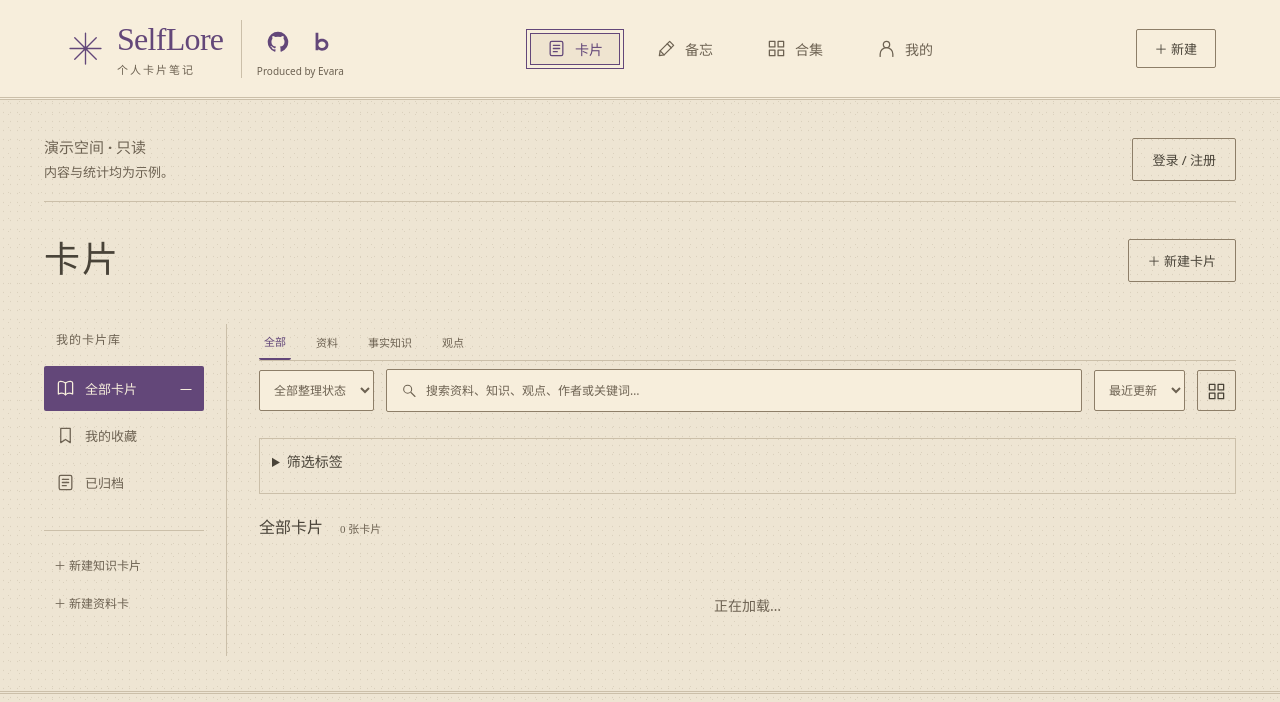
it: register then login updates the account entry
Step 1. Click the button "登录 / 注册" → (1184, 159), box [1132,138,1236,181]
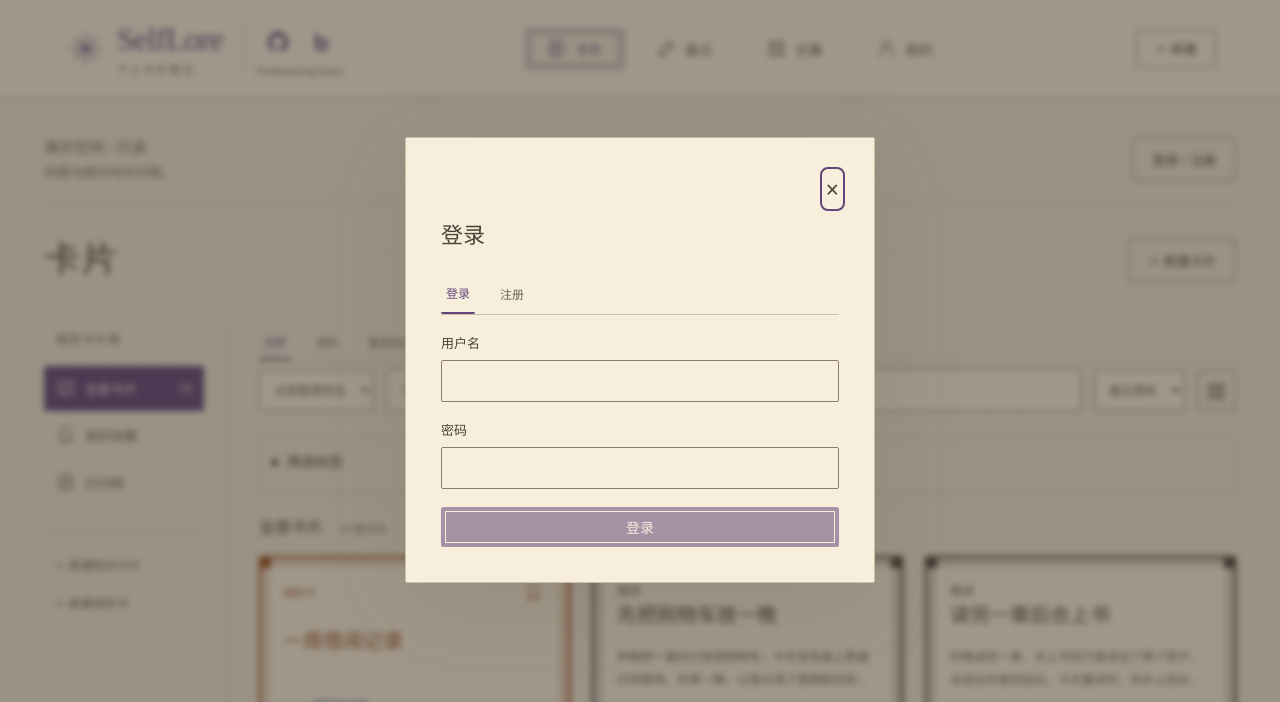
Step 2. Click the tab "注册" → (512, 294), box [495,274,529,314]
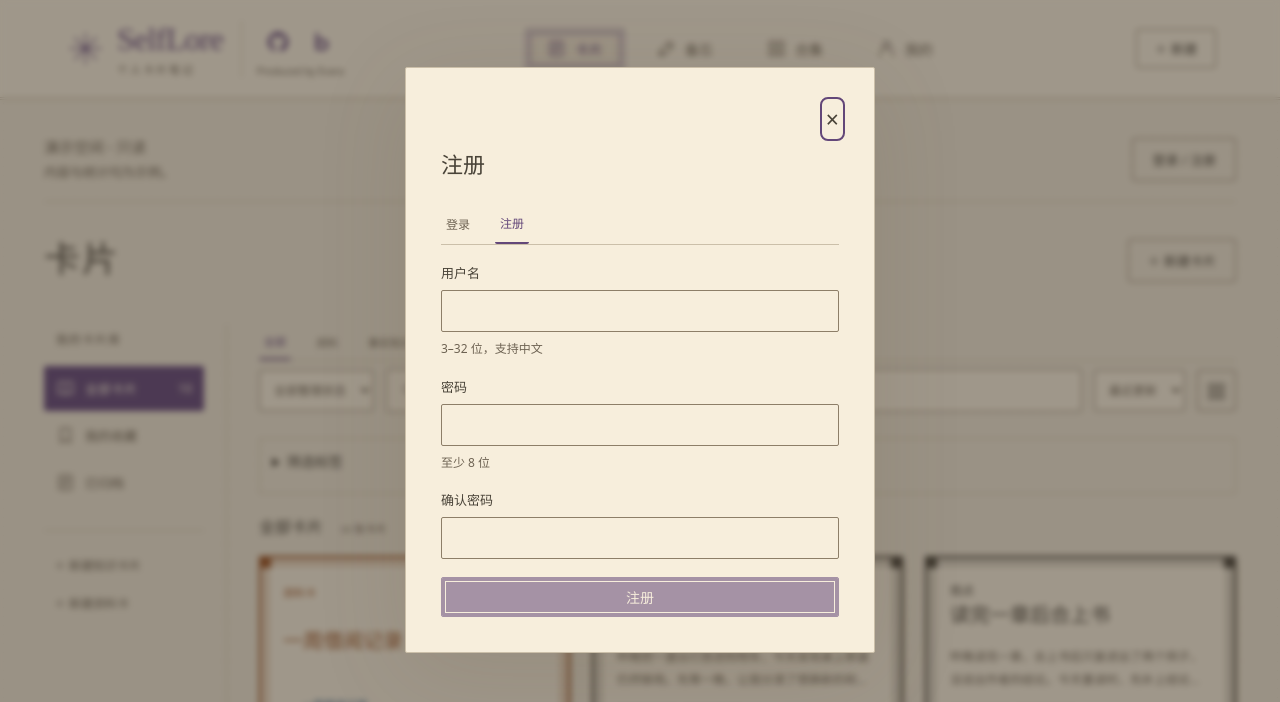
Step 3. Type "alice" into the field labelled "用户名" → (640, 311), box [441,290,839,332]
Step 4. Type "a-long-test-password-123" into the password field labelled "密码" → (640, 424), box [441,404,839,446]
Step 5. Type "a-long-test-password-123" into the password field labelled "确认密码" → (640, 538), box [441,517,839,559]
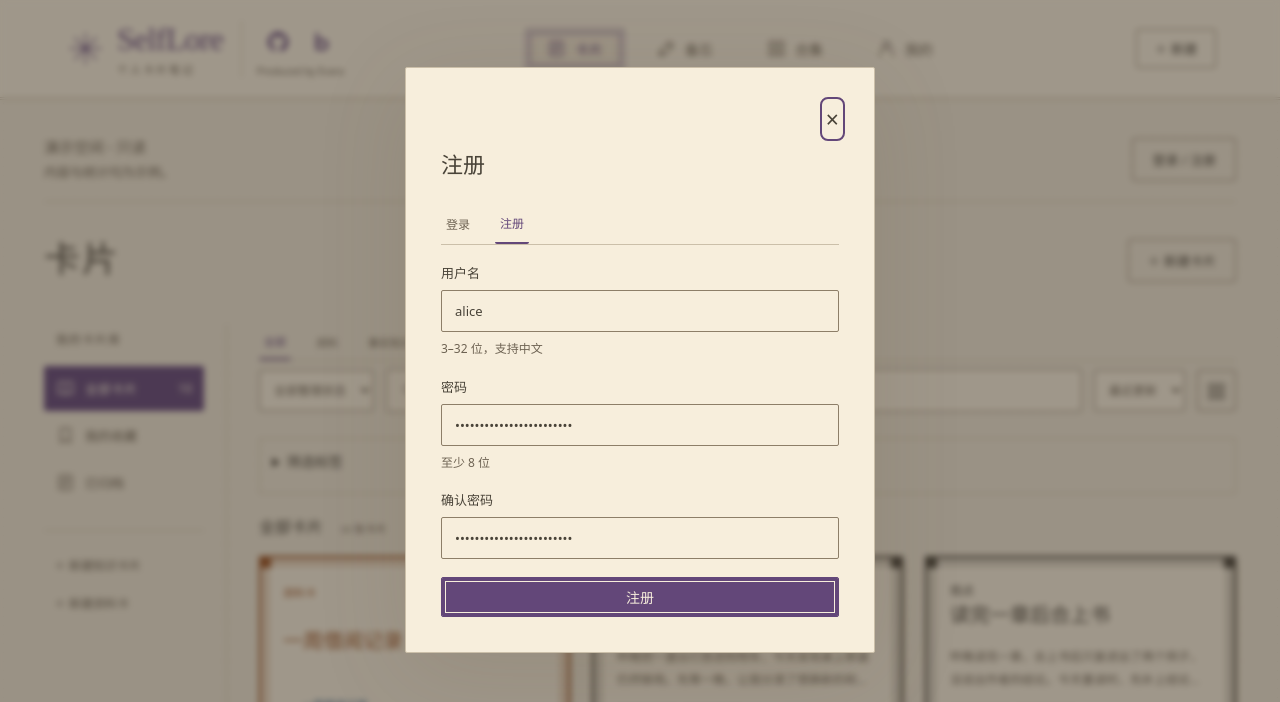
Step 6. Click the button "注册" → (640, 597), box [441,577,839,617]
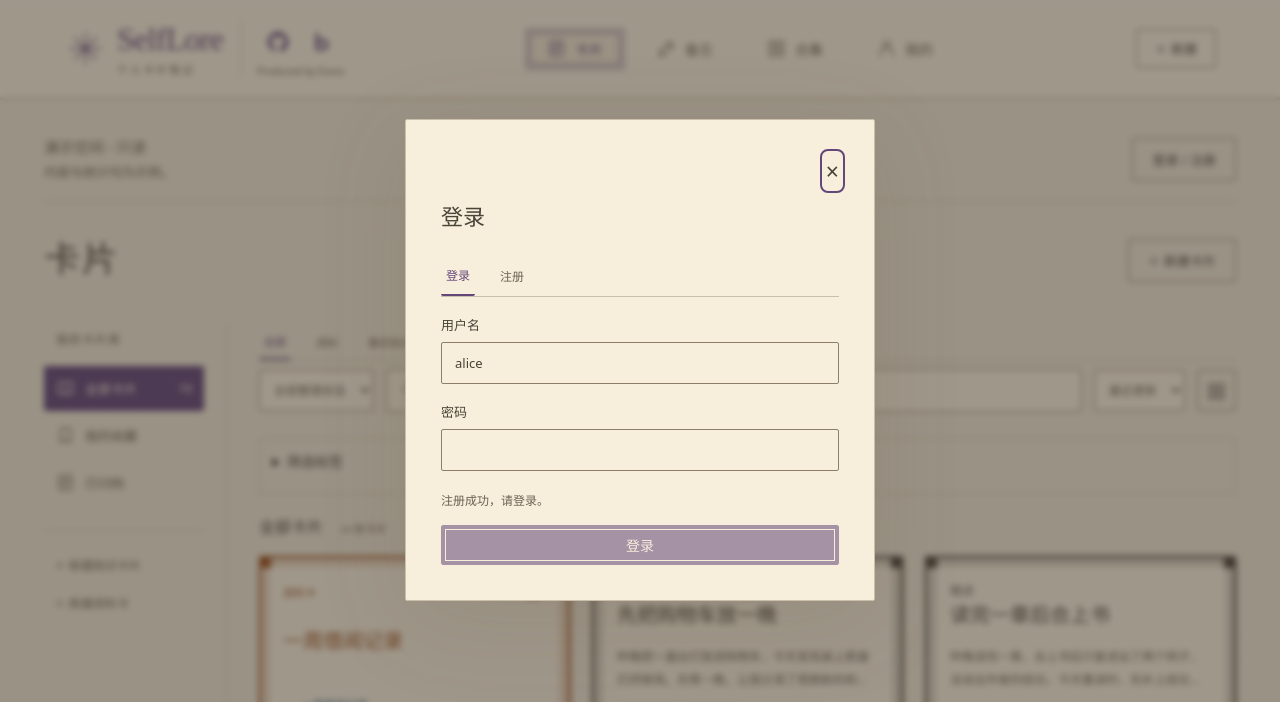
Expected: the message shows "注册成功", [441,492,549,509]
Step 7. Type "a-long-test-password-123" into the password field labelled "密码" → (640, 450), box [441,429,839,471]
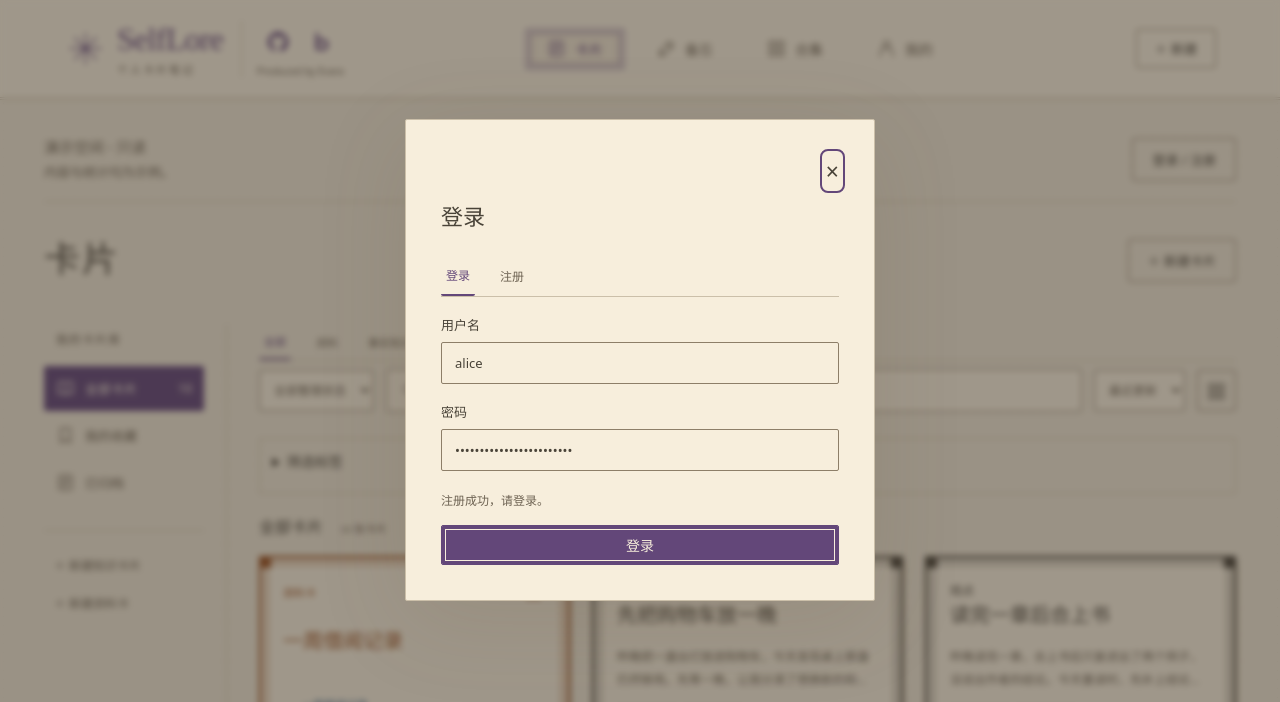
Step 8. Click the button "登录" → (640, 545), box [441,525,839,565]
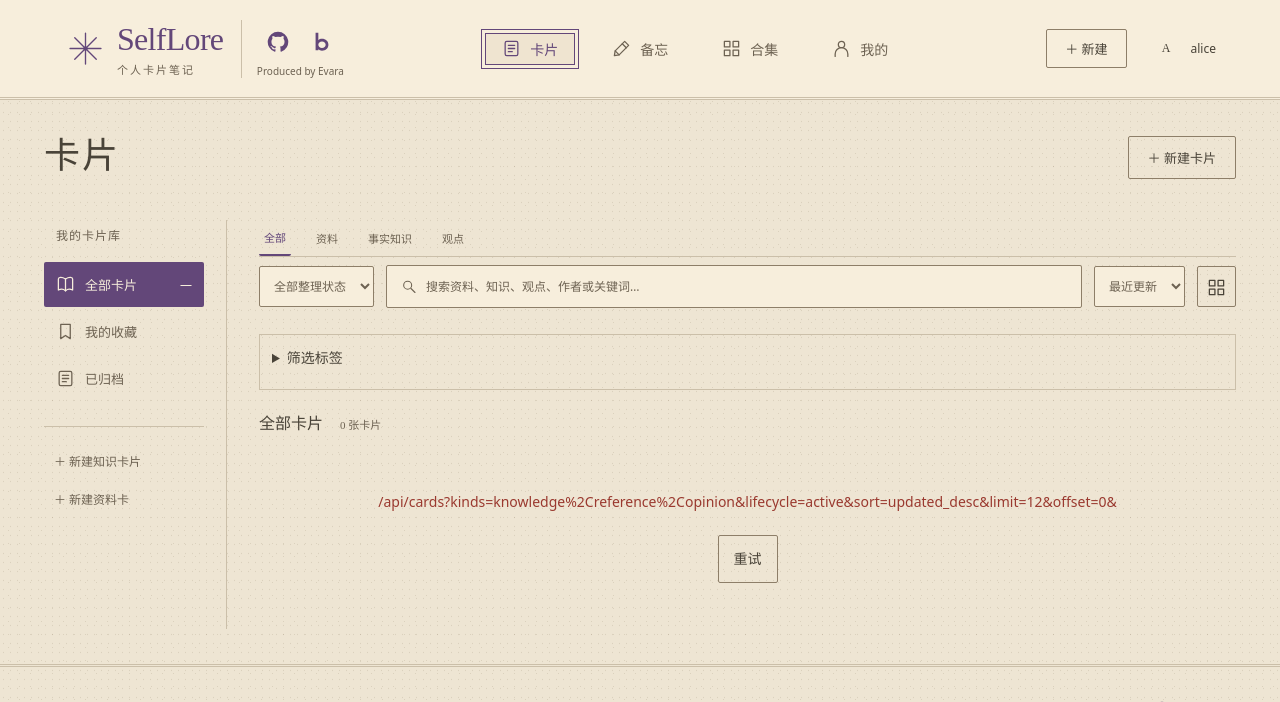
Expected: the button "A alice" is shown, [1150,32,1216,65]
